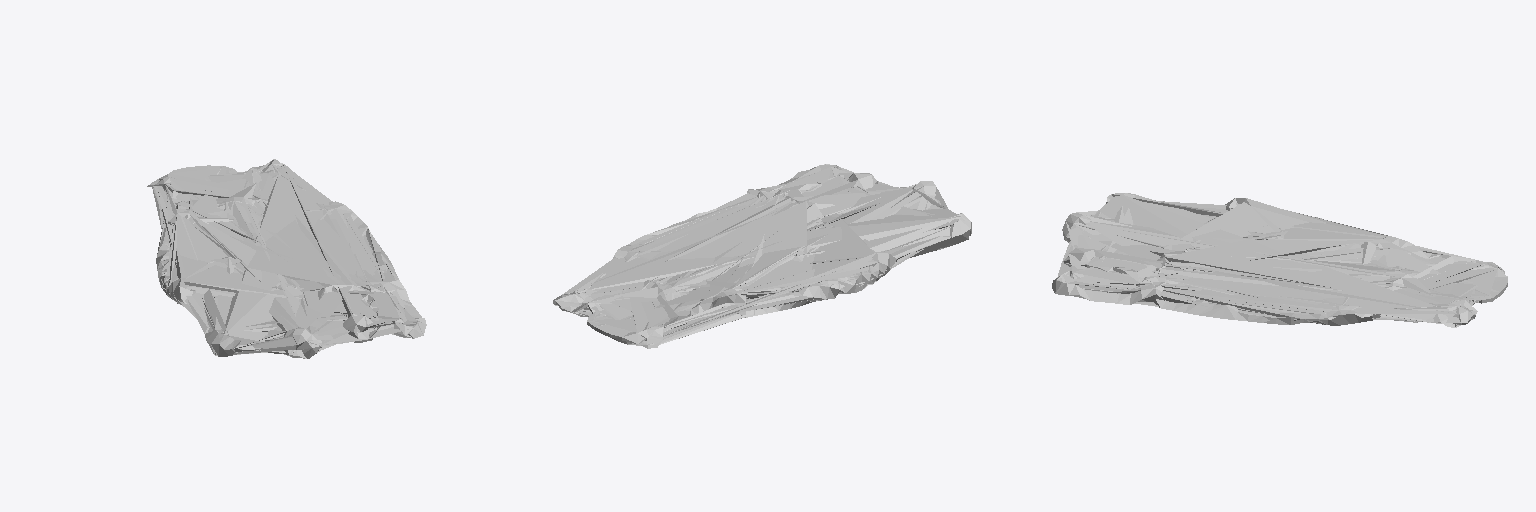
Rendered from Gloves_Helmet.obj.
3 views of the same model, side by side, from view 1: azimuth 30°, elevation 25°; view 2: azimuth 150°, elevation 25°; view 3: azimuth 270°, elevation 25° (orthographic).
Visible parts, largest first — view 1: Helmet, glove1, glove2; view 2: Helmet, glove1, glove2; view 3: Helmet, glove1, glove2.
Boxes of the visible parts, <box> form: Helmet: <box>153,159,416,354</box>; glove1: <box>152,159,423,358</box>; glove2: <box>147,160,426,358</box>; Helmet: <box>555,164,960,344</box>; glove1: <box>553,164,970,345</box>; glove2: <box>553,164,971,348</box>; Helmet: <box>1057,193,1506,324</box>; glove1: <box>1056,193,1507,327</box>; glove2: <box>1052,193,1504,327</box>.
Size of the model in its own units: 6.09 by 0.6276 by 9.71.